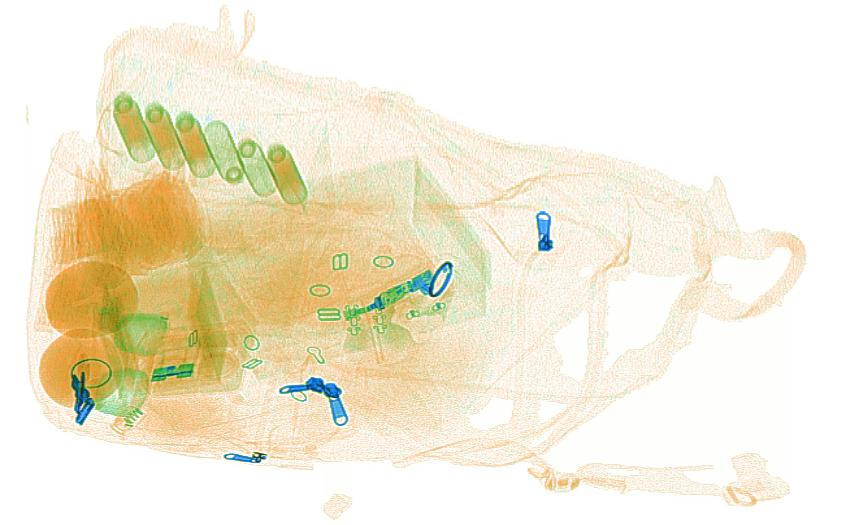USBFlashDisk: (366, 269, 432, 308)
